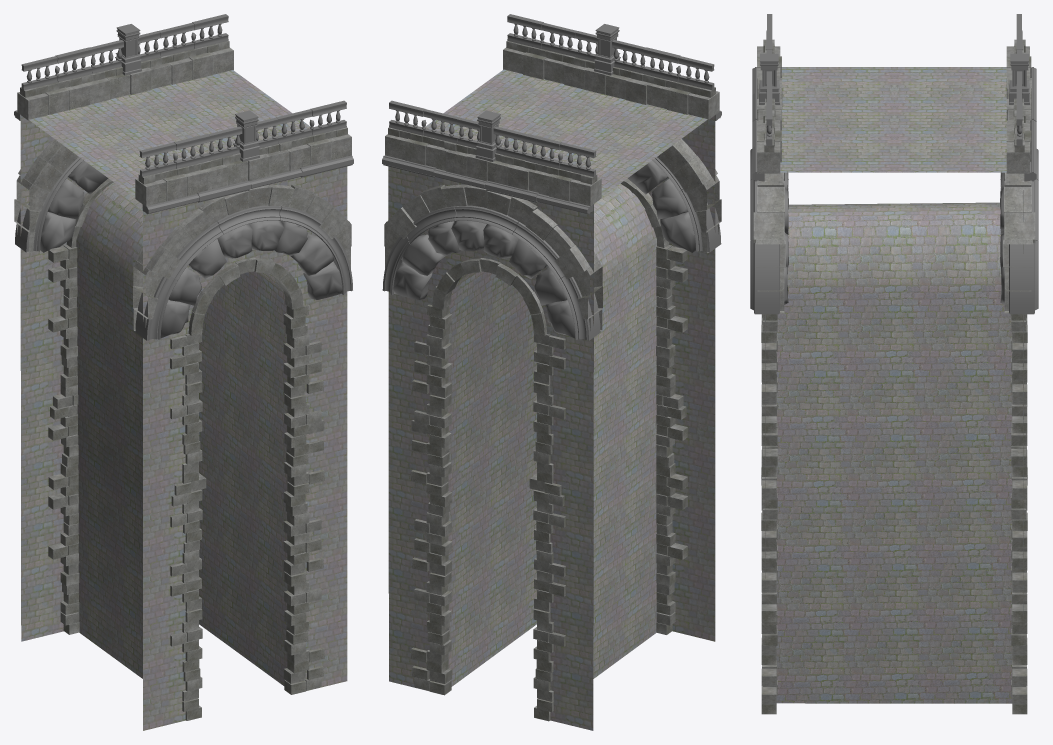
Rendered from SM_bridge_01.fbx.
3 views of the same model, side by side, from view 1: azimuth 30°, elevation 25°; view 2: azimuth 150°, elevation 25°; view 3: azimuth 270°, elevation 25° (orthographic). The views are drawn at different scales.
Visible parts, largest first — view 1: Bridge_piece; view 2: Bridge_piece; view 3: Bridge_piece.
Boxes of the visible parts, box(x1,y1,x2,y2) form: Bridge_piece: box(14, 14, 353, 730); Bridge_piece: box(382, 14, 721, 730); Bridge_piece: box(750, 14, 1038, 714).
Bounding box in the file's own units: 385 × 1049 × 441.
